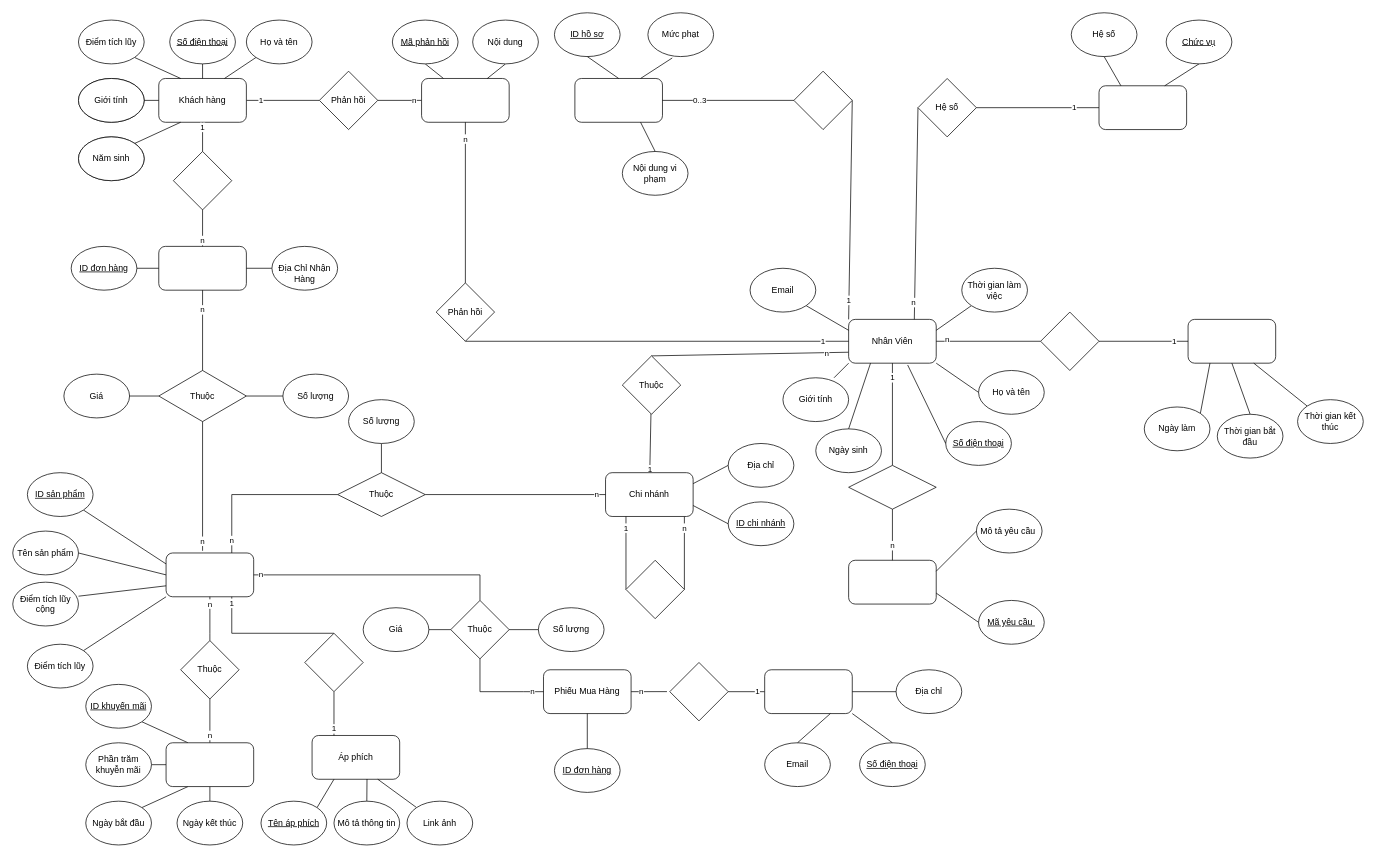
This 1376x858 diagram has some shape labels left out. The shapes that lost their labels are listed below. From the top down, each one's box as (x1, y1, x2, y2) in pixels, then its label:
(421, 78, 509, 122): Phiếu phản hồi
(574, 78, 662, 122): Phiếu vi phạm
(793, 70, 852, 130): Trừ
(1098, 85, 1187, 130): Bảng lương
(173, 151, 232, 210): Đặt hàng
(158, 246, 246, 290): Đơn hàng
(1040, 311, 1099, 370): Giờ làm
(1187, 319, 1276, 363): Bảng chấm công
(848, 465, 936, 509): Ghi
(165, 552, 254, 597): Sản phẩm
(625, 560, 684, 619): Cung cấp
(848, 560, 936, 604): Phiếu Yêu cầu sản phẩm
(304, 633, 363, 692): Có
(669, 662, 728, 721): Cung ứng
(764, 669, 852, 714): Nhà cung cấp
(165, 742, 254, 787): Hồ sơ khuyến mãi sản phẩm
